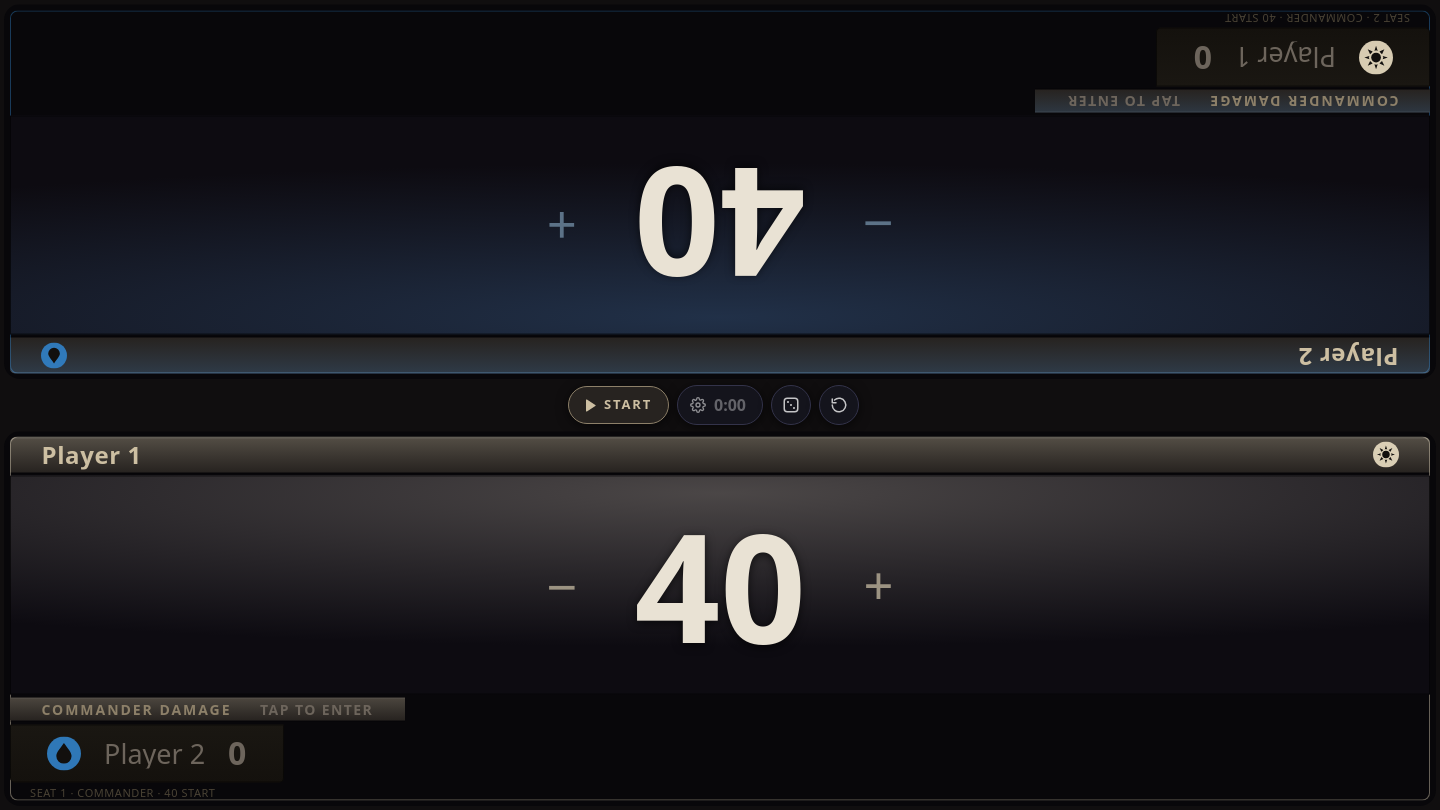
Test case: asking first (RESET-1) › changes nothing on Cancel
Press the mouse on the button named "lose life" at (362, 618), box [4,431,720,806]
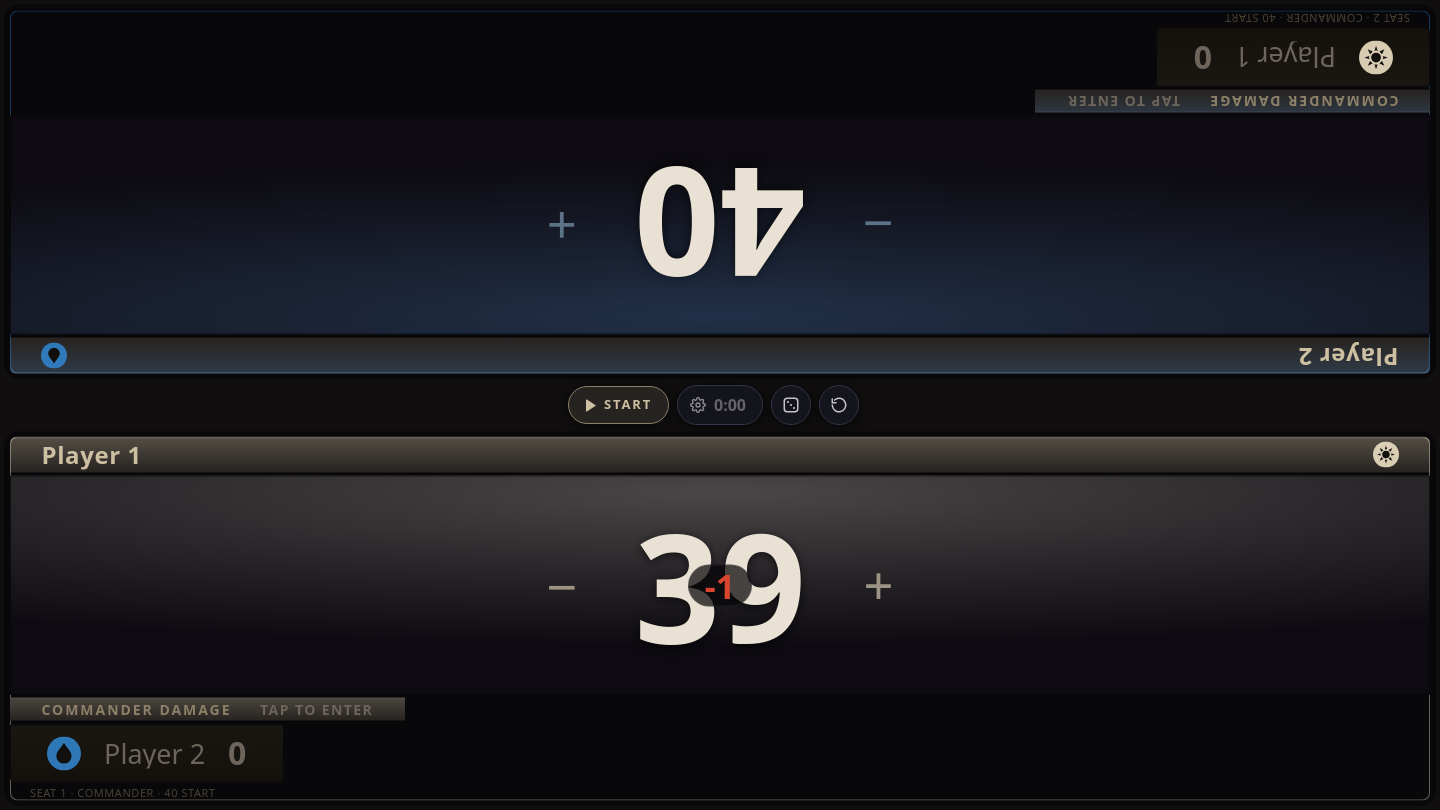
Click the button named "Reset the game".
click(839, 405)  # box [819,385,859,425]
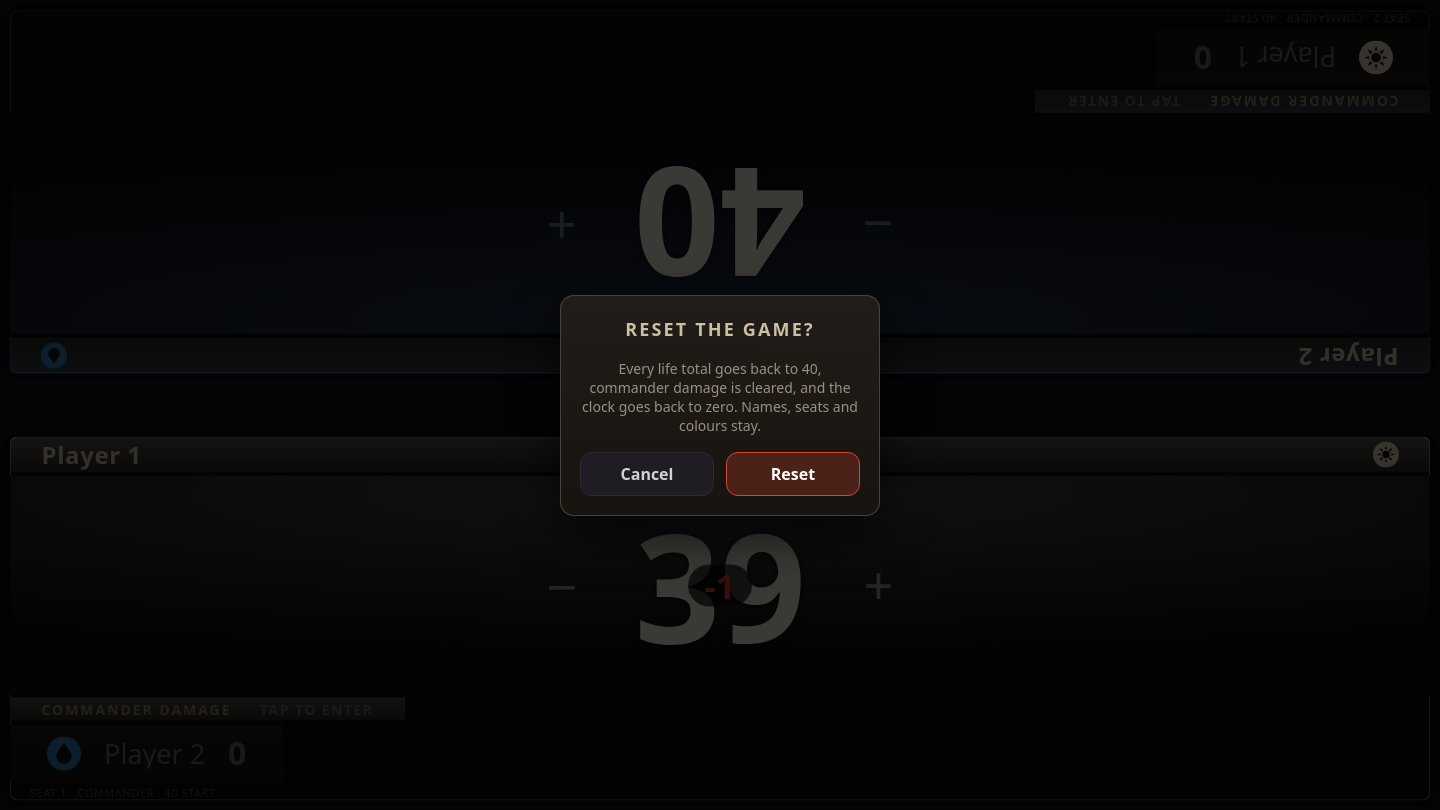
Click the button "Cancel".
click(647, 474)  # box [580,452,714,496]
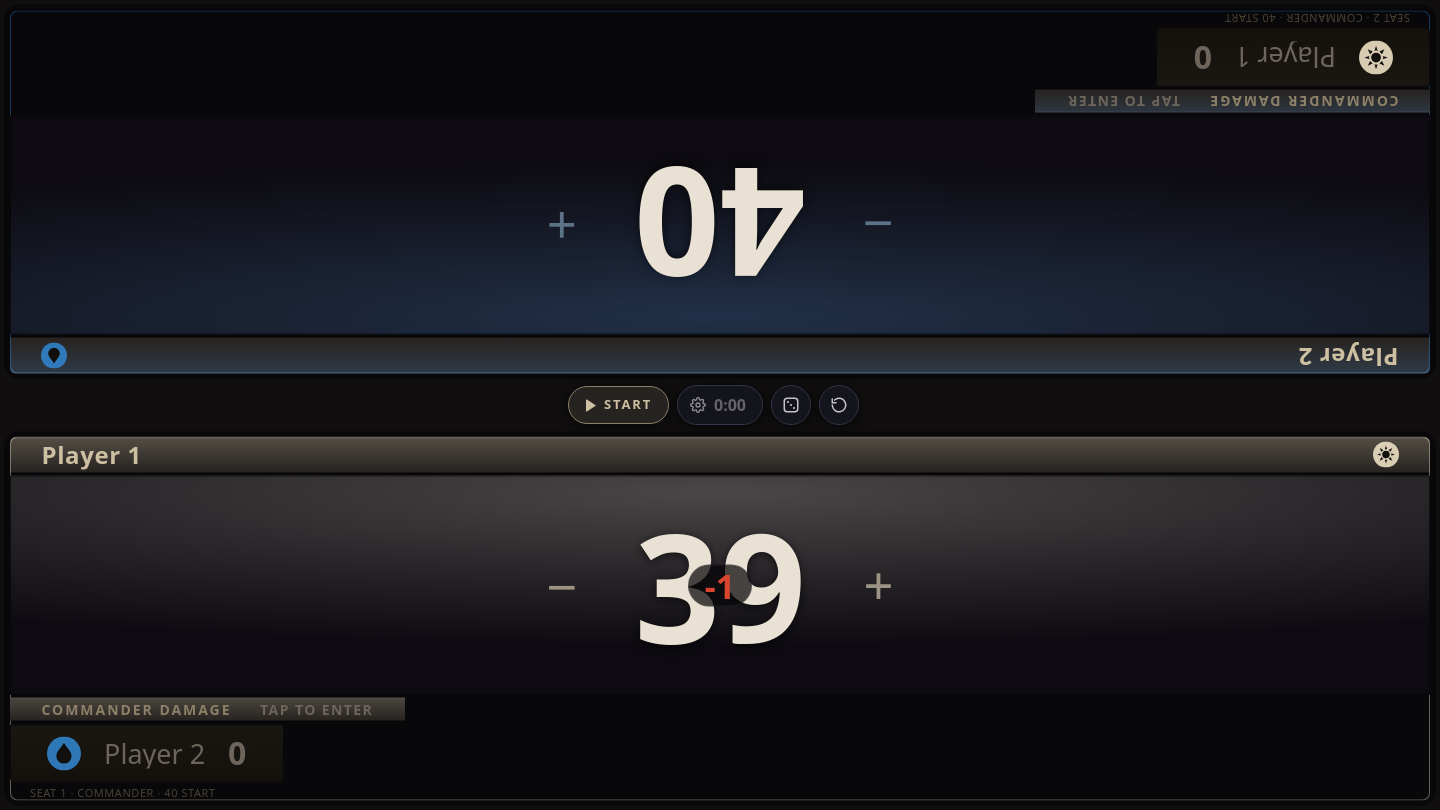
Expected: the heading "Reset the game?" is gone
